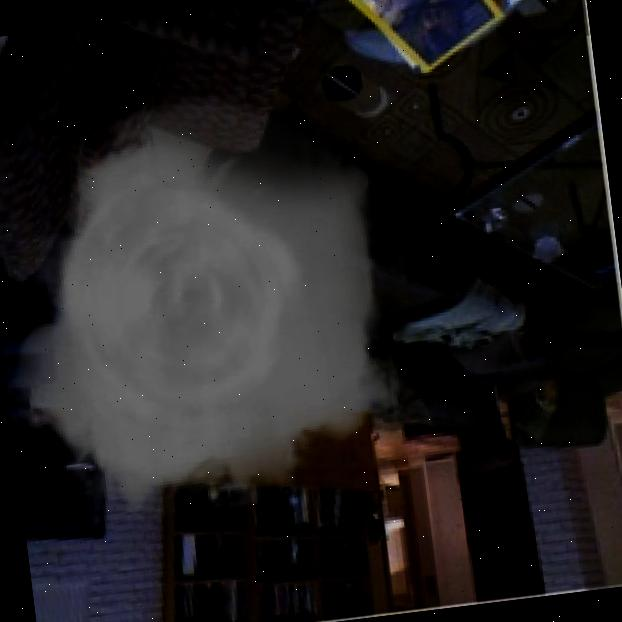smoke: (0, 72, 431, 534)
